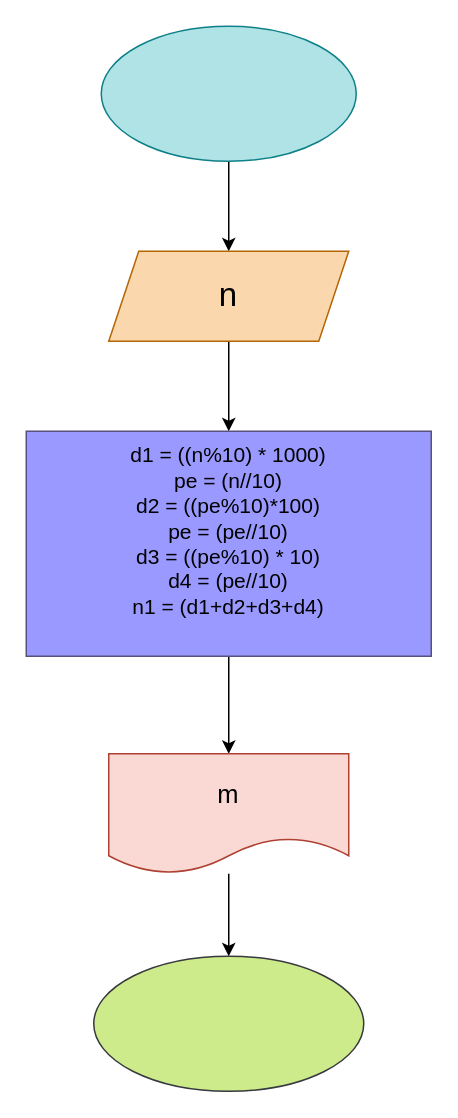
Some shapes in this 458 by 1118 pixel diagram are drawn without their labels. Each missing label, with the centre of its shape:
"FIN" belongs at pixel 228 1023.
"INICIO" belongs at pixel 228 93.
